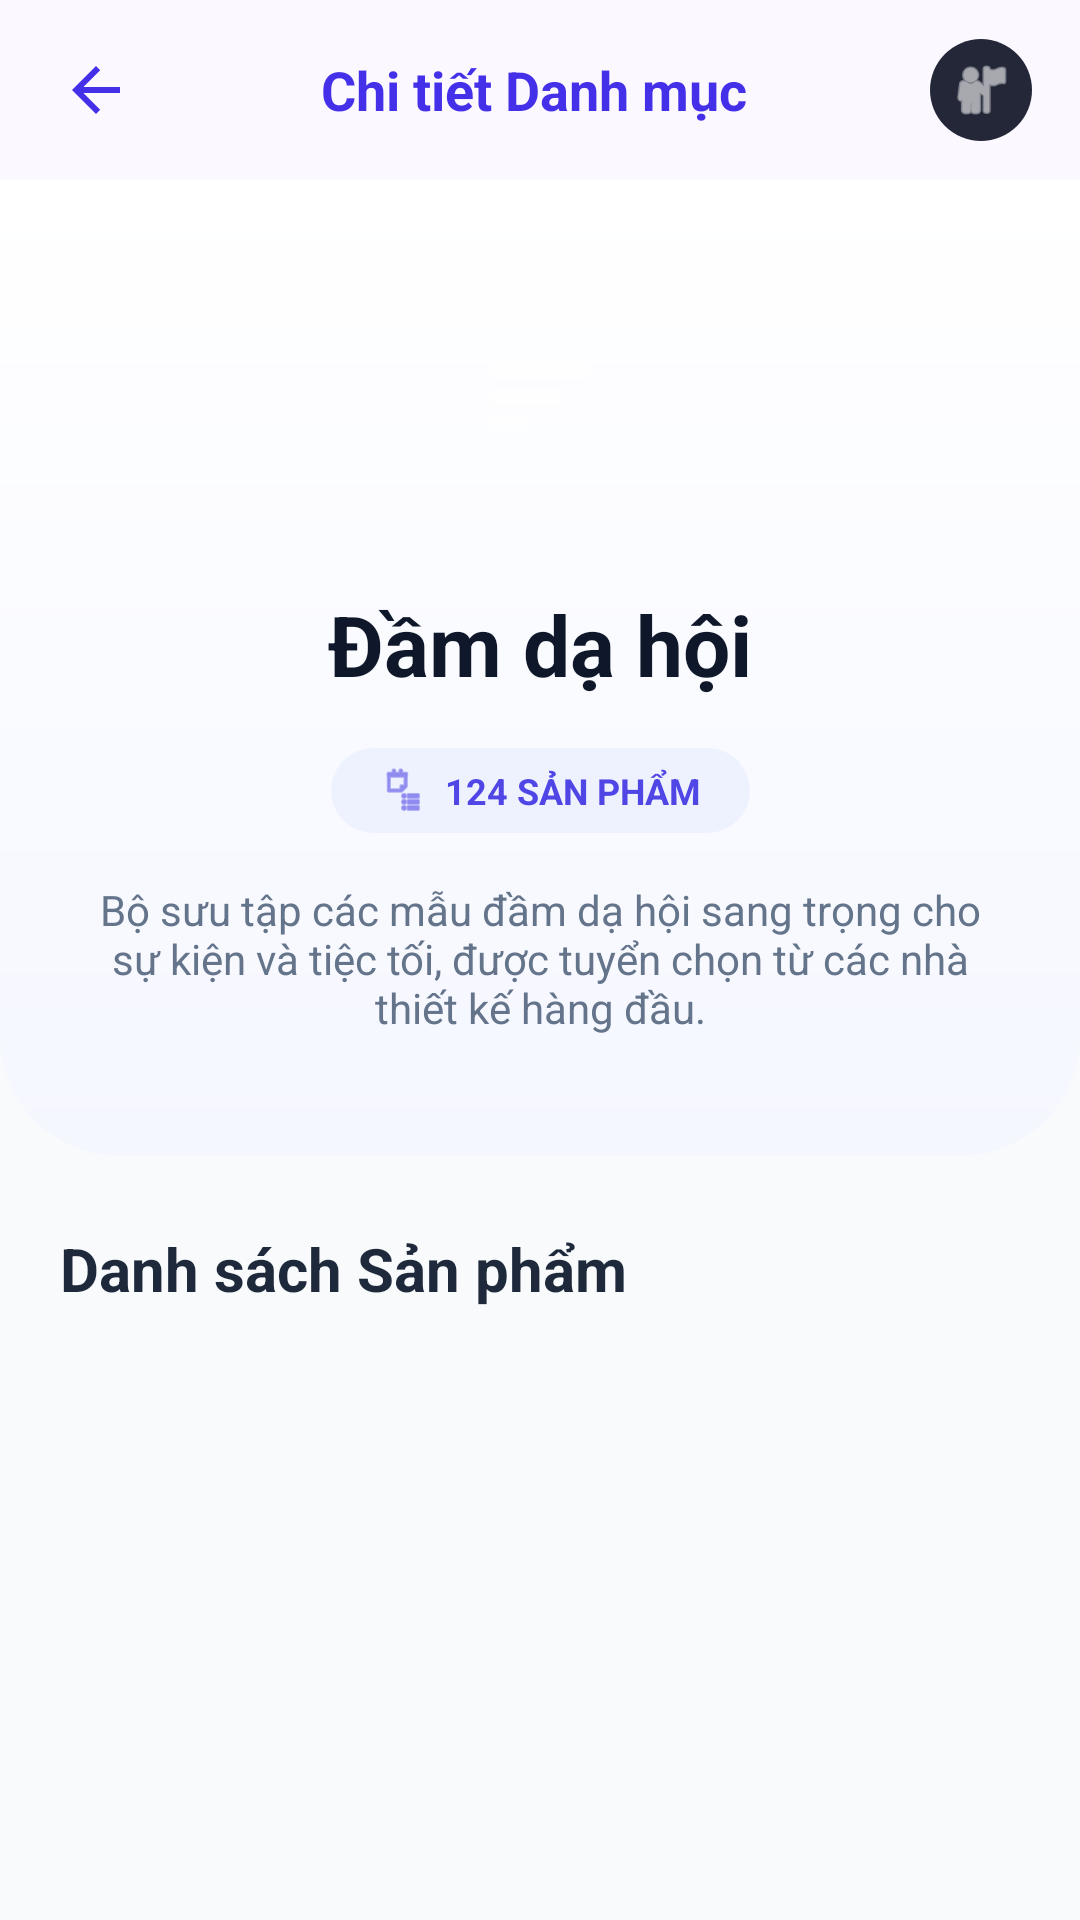

Icons on this 1080 x 1920 Android screen, each with its box as (x1, y1, x2, y2):
agenda: (386, 768, 420, 811)
arrow back: (72, 66, 120, 114)
Tài khoản quản trị: (930, 39, 1032, 141)
